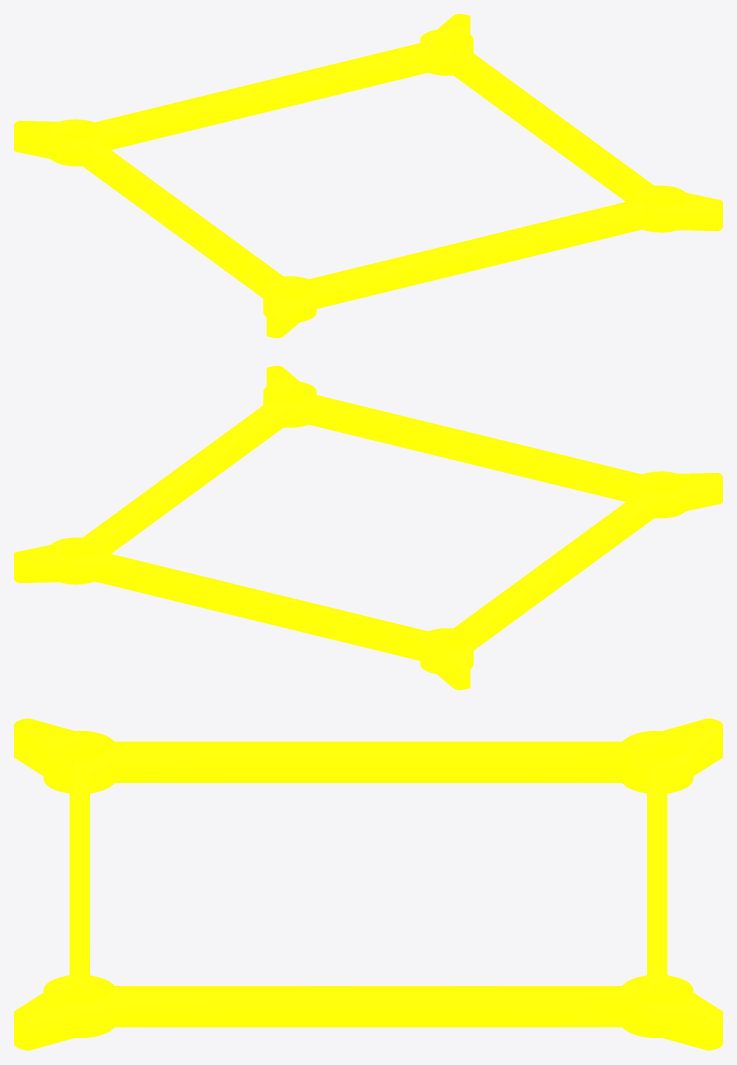
Rendered from goldie.fbx.
The picture shows the model from 3 angles, top to bottom: view 1: azimuth 30°, elevation 25°; view 2: azimuth 150°, elevation 25°; view 3: azimuth 270°, elevation 25°; orthographic projection. The views are drawn at different scales.
Parts seen in each view (by area): view 1: menu_outline; view 2: menu_outline; view 3: menu_outline.
Boxes of the visible parts, x1,y1,x2,y2 form: menu_outline: (14,14,722,337); menu_outline: (14,366,722,689); menu_outline: (14,718,722,1050).
Size of the model in its own units: 19.64 by 1 by 19.64.
